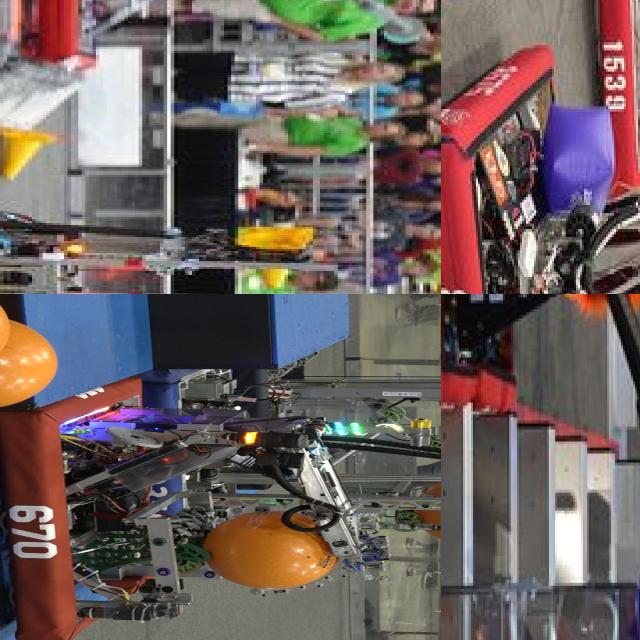FRC-Robots: (0, 0, 430, 294), (0, 387, 441, 640), (441, 294, 640, 640), (441, 89, 640, 294), (571, 50, 640, 148)
